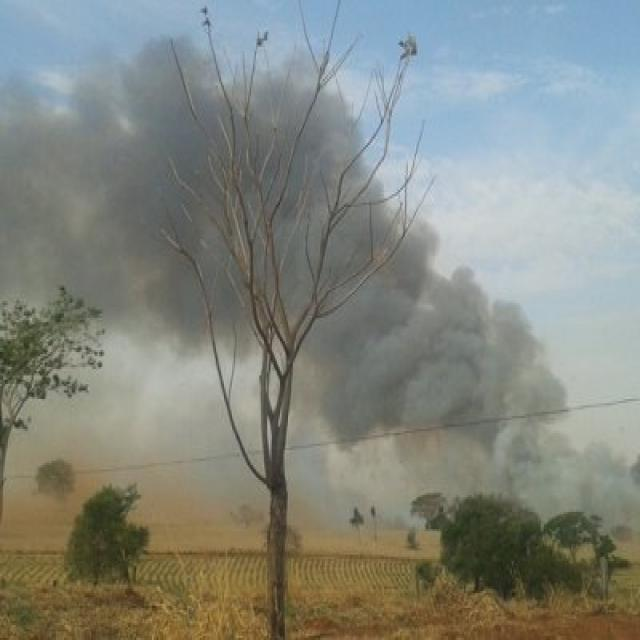Smoke: (10, 18, 616, 502)
